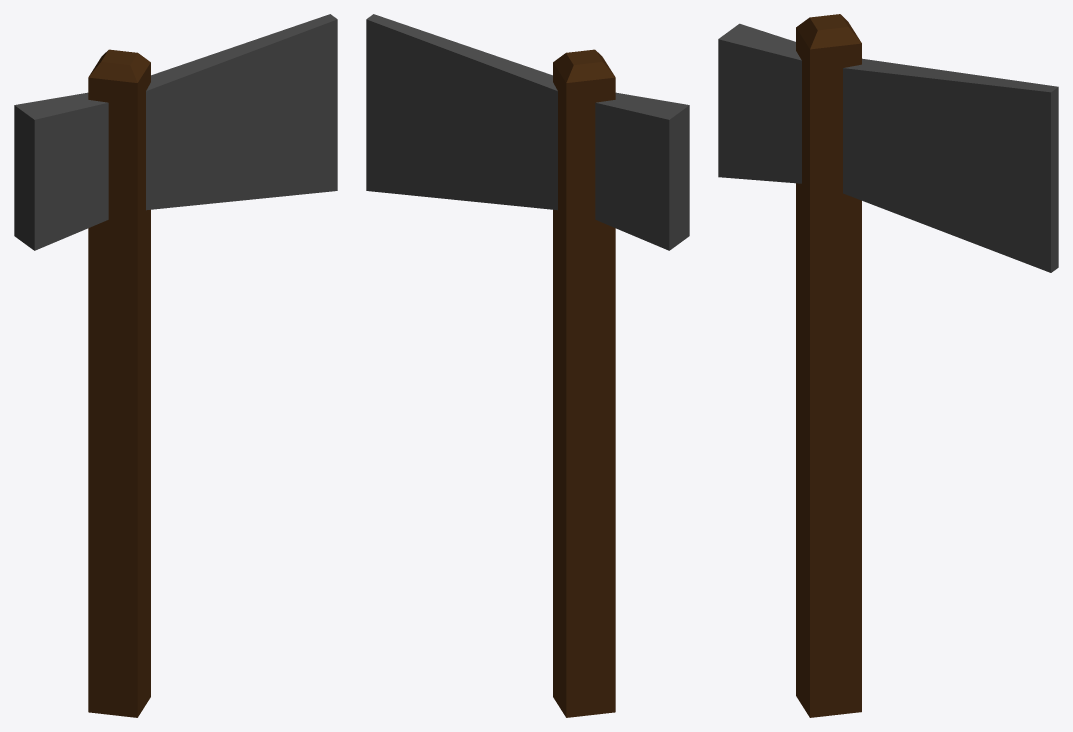
File: axe_steel.fbx
3 views of the same model, side by side, from view 1: azimuth 30°, elevation 25°; view 2: azimuth 150°, elevation 25°; view 3: azimuth 330°, elevation 25° (orthographic). The views are drawn at different scales.
Visible parts, largest first — view 1: Cube; view 2: Cube; view 3: Cube.
Boxes of the visible parts, bbox=[...] form: Cube: bbox=[14, 14, 337, 717]; Cube: bbox=[366, 14, 689, 717]; Cube: bbox=[718, 14, 1058, 717].
Bounding box in the file's own units: 178 × 357 × 36.12.
